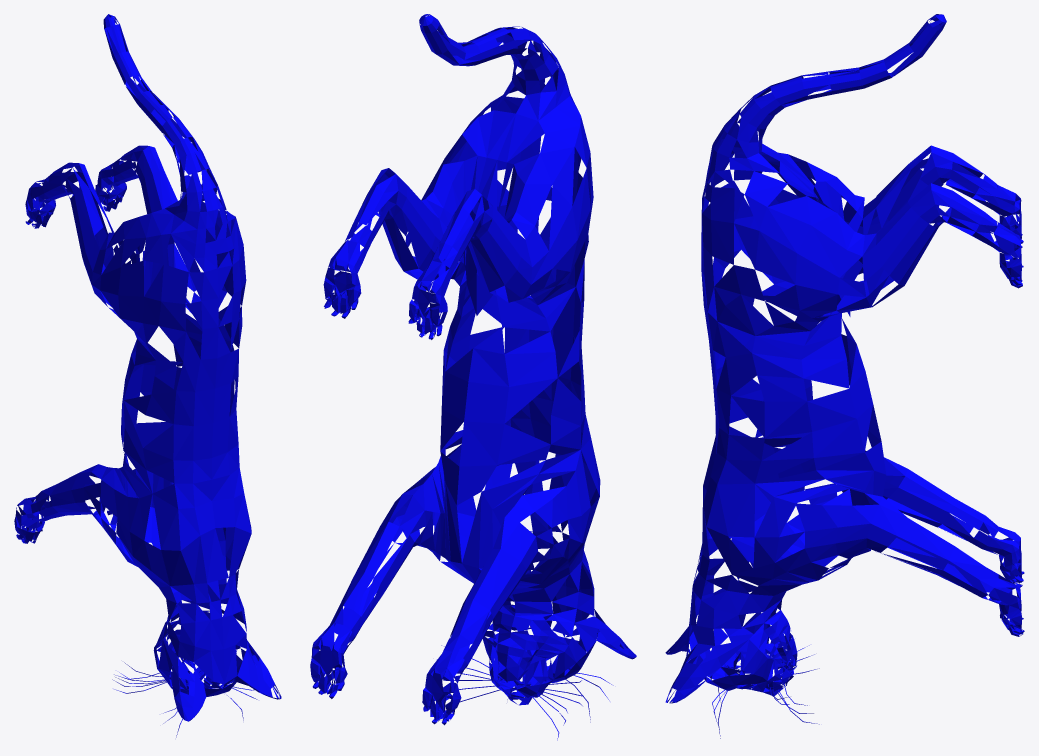
Rendered from jnx.obj.
3 renders of one model, left to right at view 1: azimuth 30°, elevation 25°; view 2: azimuth 150°, elevation 25°; view 3: azimuth 270°, elevation 25°, orthographic. The views are drawn at different scales.
Visible parts, largest first — view 1: Object1; view 2: Object1; view 3: Object1.
Part boxes in pixels (box(x1,y1,x2,y2)): Object1: box(14, 14, 281, 737); Object1: box(310, 14, 636, 740); Object1: box(665, 14, 1024, 738).
Bounding box in the file's own units: 12.57 × 61.42 × 28.21.
